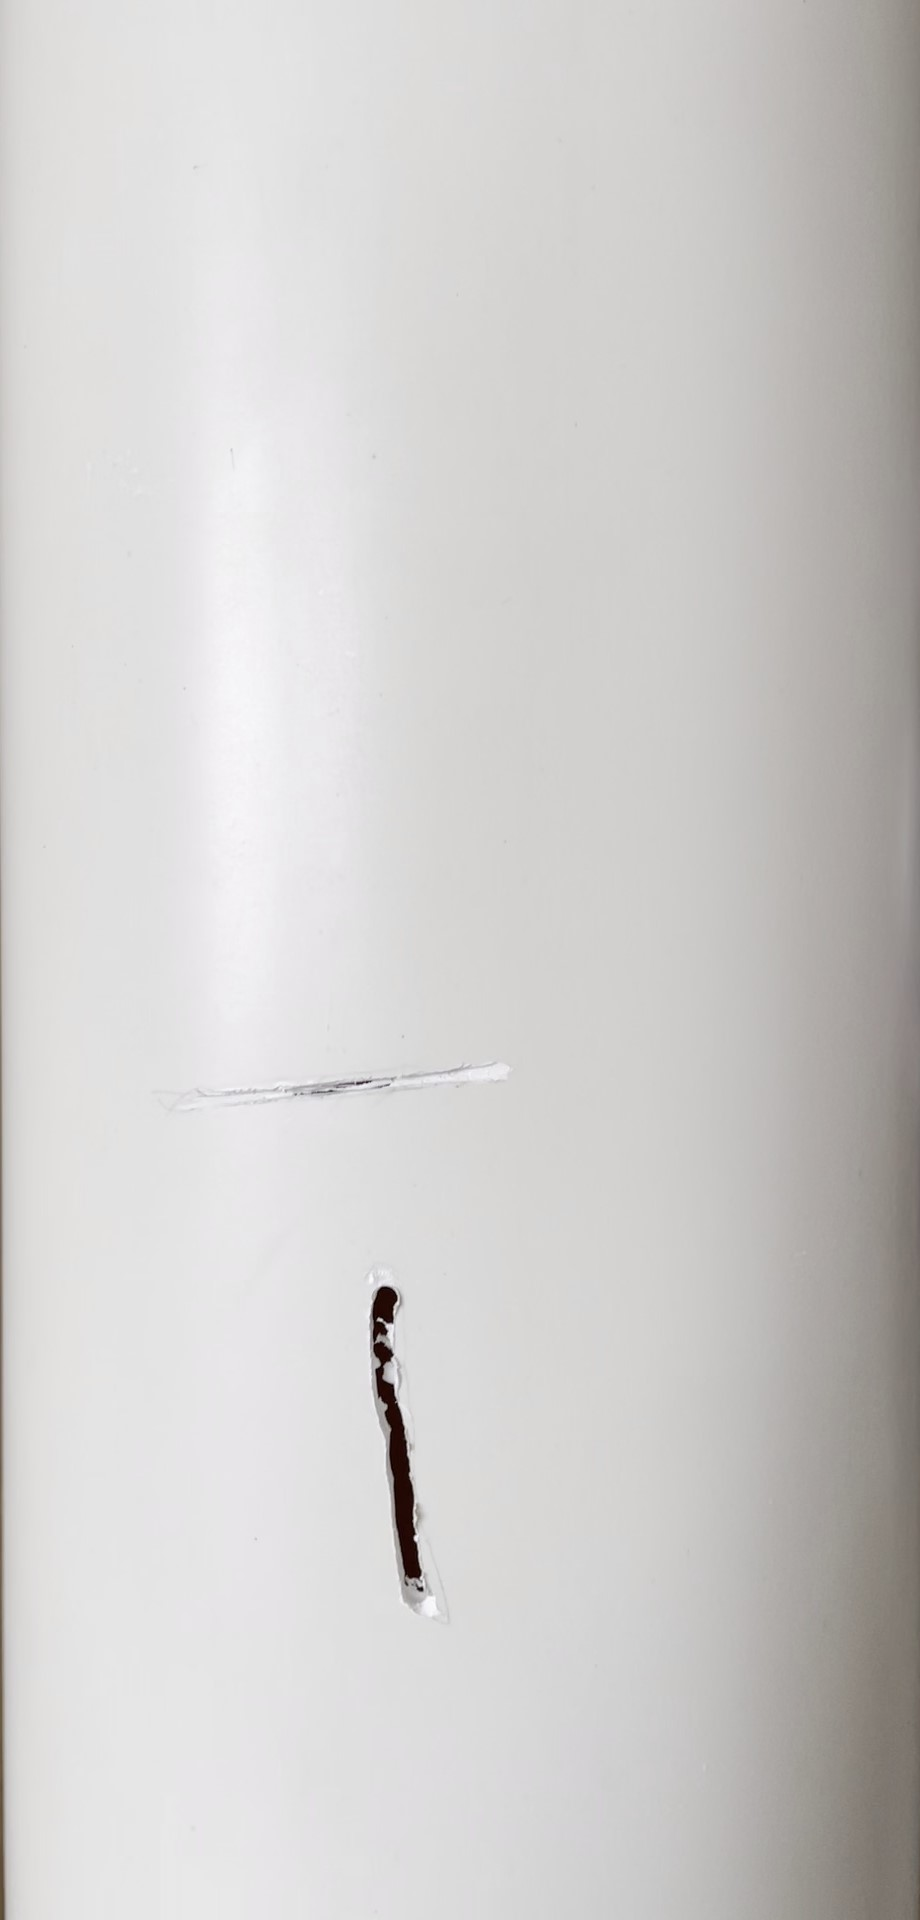fengxi: (348, 1273, 461, 1640)
sunshang: (167, 1049, 519, 1133)
